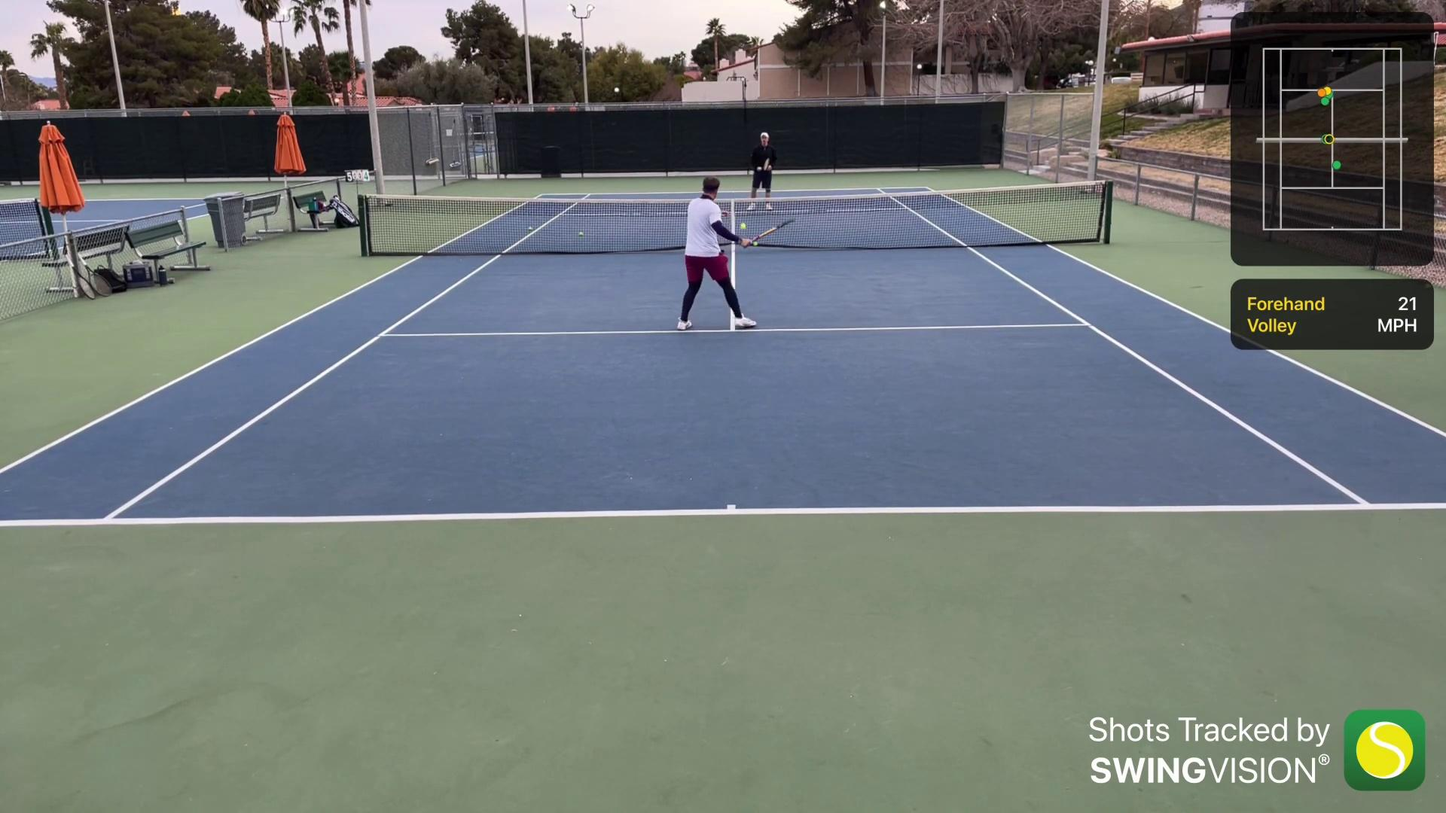ball: (577, 230, 584, 237), (740, 222, 746, 230), (752, 241, 759, 247), (453, 283, 458, 288), (528, 225, 532, 231)
